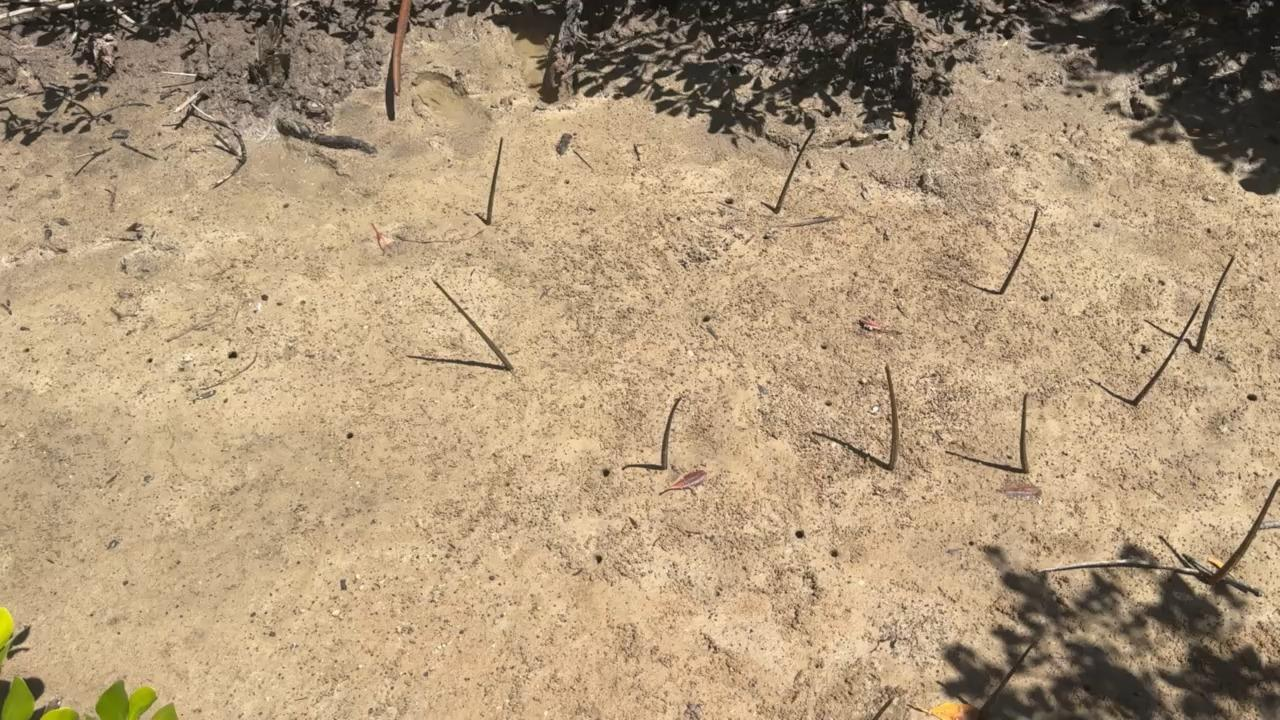Tree: (1132, 303, 1202, 406), (433, 280, 512, 371), (1213, 480, 1280, 585), (1195, 254, 1238, 353), (998, 209, 1039, 295), (774, 130, 815, 214), (883, 365, 901, 470), (485, 138, 504, 224), (660, 397, 682, 469), (1019, 393, 1029, 473)
